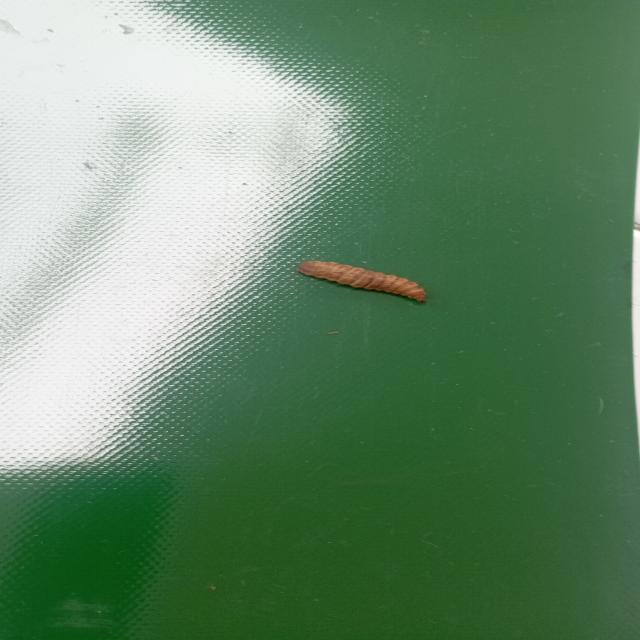Maggot: (299, 260, 427, 305)
